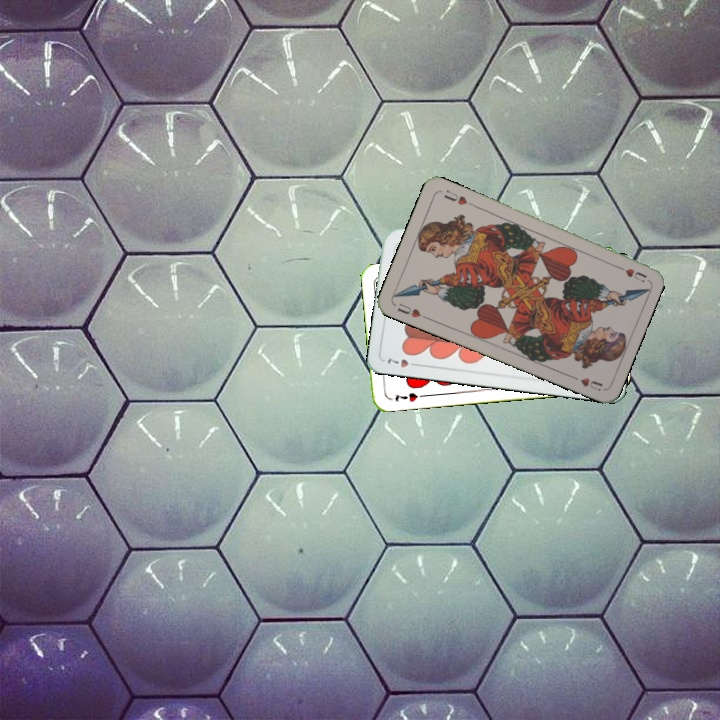H7: (383, 355, 422, 370), (391, 388, 420, 404)
HU: (610, 261, 649, 284), (393, 299, 430, 321)
